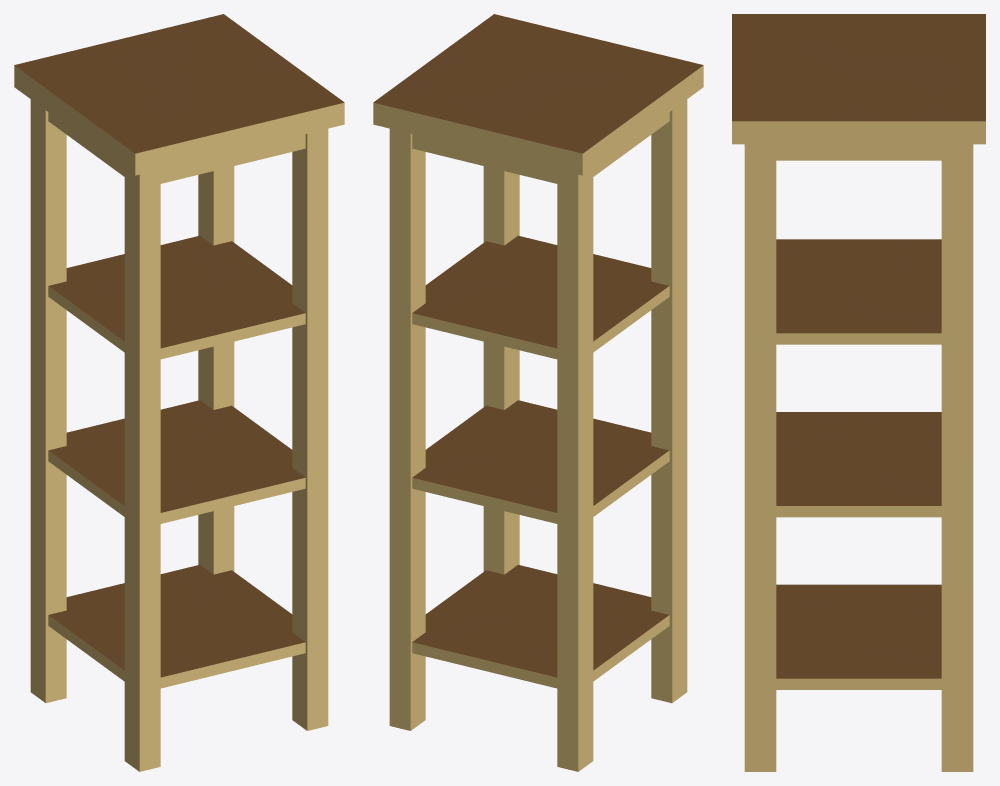
Rendered from SM_Little_Table_01.fbx.
3 renders of one model, left to right at view 1: azimuth 30°, elevation 25°; view 2: azimuth 150°, elevation 25°; view 3: azimuth 270°, elevation 25°, orthographic. The views are drawn at different scales.
Visible parts, largest first — view 1: SM_Little_Table_01; view 2: SM_Little_Table_01; view 3: SM_Little_Table_01.
Boxes of the visible parts, x1,y1,x2,y2 form: SM_Little_Table_01: [14, 14, 344, 771]; SM_Little_Table_01: [373, 14, 703, 771]; SM_Little_Table_01: [732, 14, 985, 771].
Size of the model in its own units: 40 by 114 by 40.
